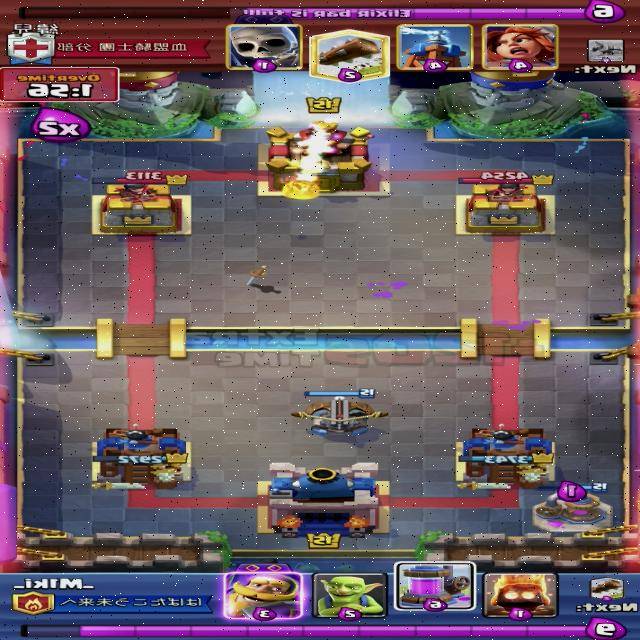Enemy-Fireball: (278, 170, 327, 201)
Player-ElixirPump: (530, 482, 615, 533)
Player-XBow: (289, 388, 387, 435)
